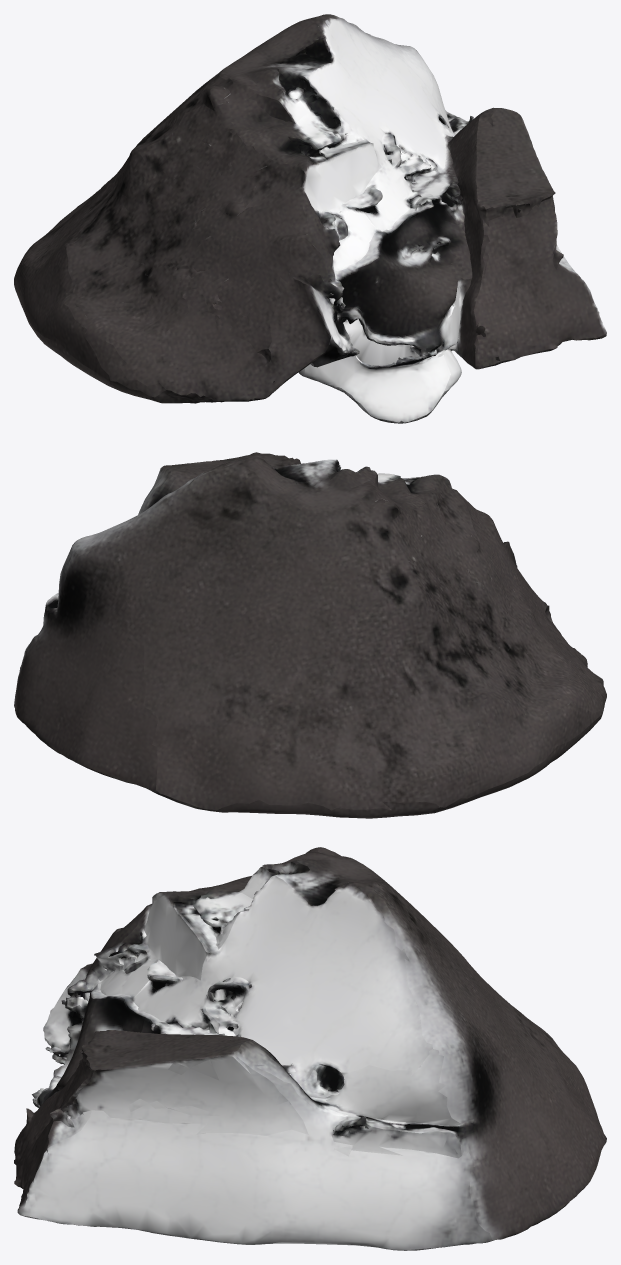
The picture shows the model from 3 angles, top to bottom: view 1: azimuth 30°, elevation 25°; view 2: azimuth 150°, elevation 25°; view 3: azimuth 270°, elevation 25°; orthographic projection. The views are drawn at different scales.
Visible parts, largest first — view 1: world; view 2: world; view 3: world.
Part boxes in pixels (x1,y1,x2,y2): world: (14,14,606,423); world: (14,452,606,818); world: (14,847,606,1250).
Size of the model in its own units: 0.12 by 0.0689 by 0.1203.
1 material, 1 textured.
